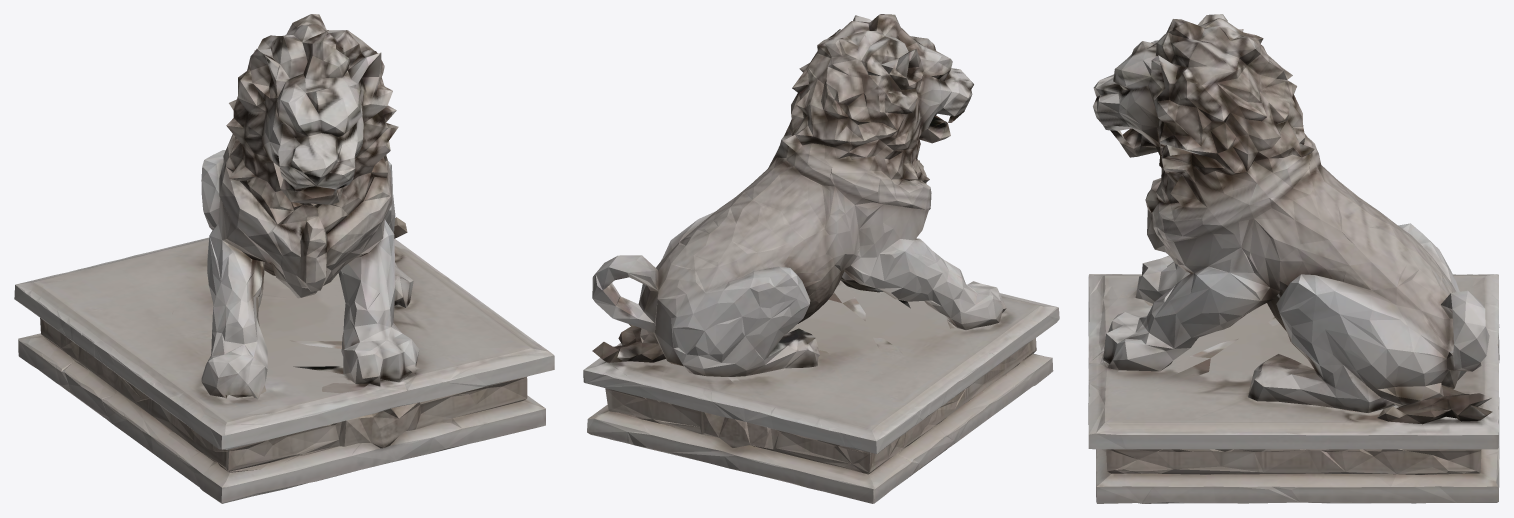
The model's file is bj89_stone_lion.glb.
The picture shows the model from 3 angles, left to right: view 1: azimuth 30°, elevation 25°; view 2: azimuth 150°, elevation 25°; view 3: azimuth 270°, elevation 25°; orthographic projection. The views are drawn at different scales.
Parts seen in each view (by area): view 1: bj89_stone_lion_tex; view 2: bj89_stone_lion_tex; view 3: bj89_stone_lion_tex.
Boxes of the visible parts, x1=… form: bj89_stone_lion_tex: x1=14, y1=14, x2=554, y2=503; bj89_stone_lion_tex: x1=583, y1=14, x2=1059, y2=503; bj89_stone_lion_tex: x1=1088, y1=14, x2=1499, y2=503.
Bounding box in the file's own units: 1.92 × 2.2 × 2.06.
Materials: 1 (1 with a texture image).
